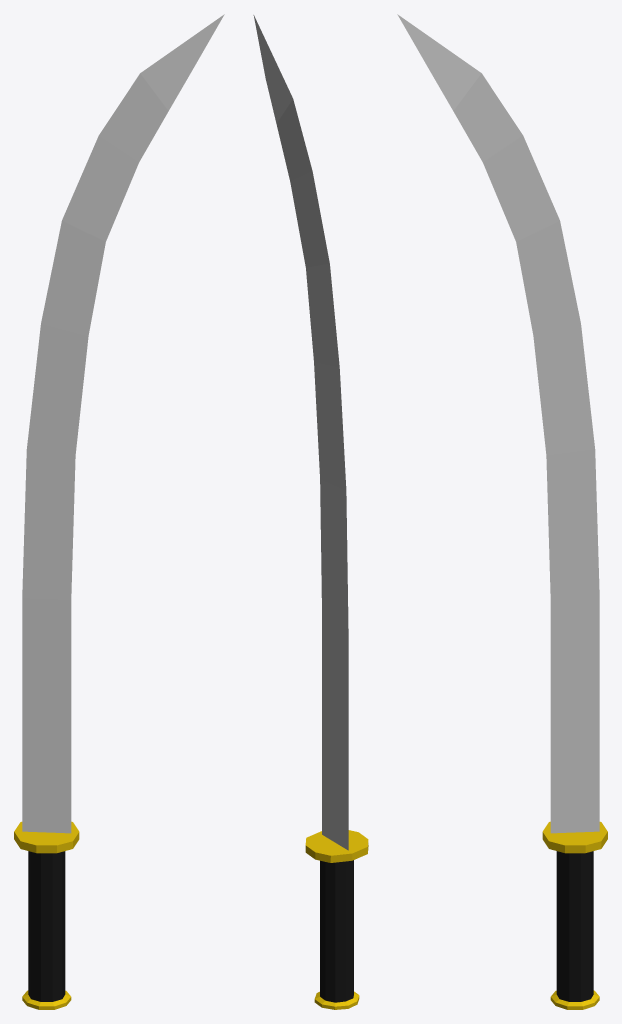
Rendered from SamuraiSword.fbx.
The picture shows the model from 3 angles, left to right: view 1: azimuth 90°, elevation 25°; view 2: azimuth 210°, elevation 25°; view 3: azimuth 270°, elevation 25°; orthographic projection. The views are drawn at different scales.
Parts seen in each view (by area): view 1: Cube; view 2: Cube; view 3: Cube.
Boxes of the visible parts, x1=… form: Cube: x1=14, y1=14, x2=224, y2=1009; Cube: x1=253, y1=15, x2=368, y2=1009; Cube: x1=397, y1=14, x2=607, y2=1009.
Size of the model in its own units: 201 by 3333 by 645.
